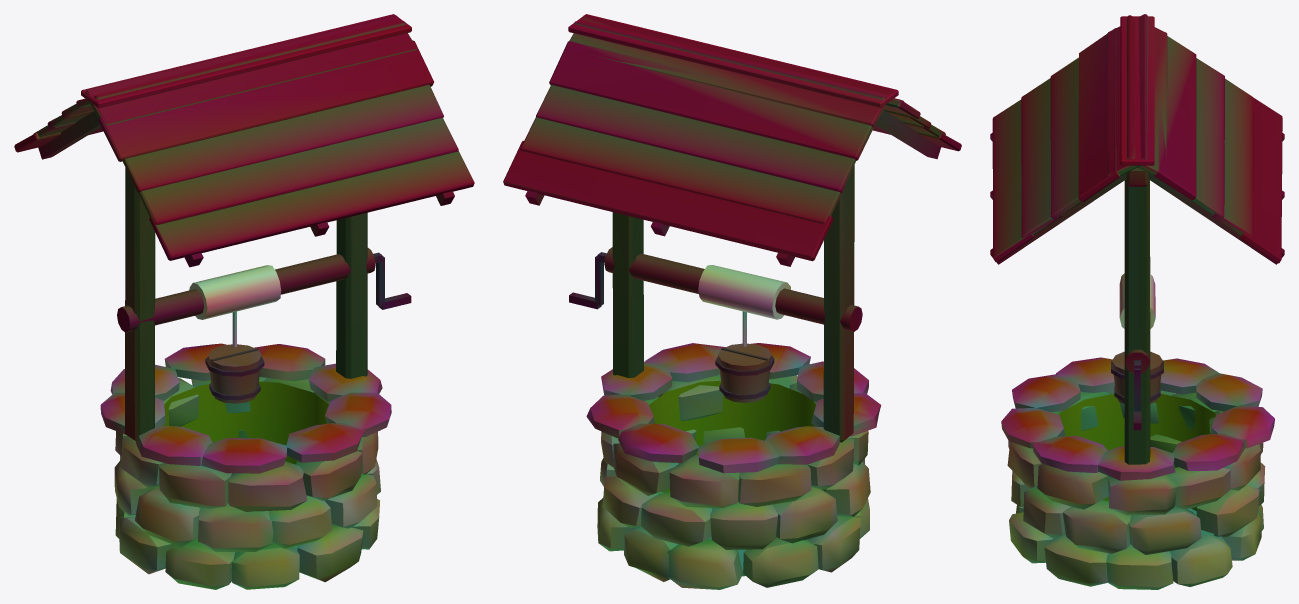
File: well.glb
3 renders of one model, left to right at view 1: azimuth 30°, elevation 25°; view 2: azimuth 150°, elevation 25°; view 3: azimuth 270°, elevation 25°, orthographic. The views are drawn at different scales.
Visible parts, largest first — view 1: well_LOD0; view 2: well_LOD0; view 3: well_LOD0.
Part boxes in pixels (box(x1,y1,x2,y2)): well_LOD0: box(14, 14, 474, 589); well_LOD0: box(503, 14, 961, 589); well_LOD0: box(990, 14, 1284, 589).
Size of what is drawn, in the model's own units: 1.12 by 1.63 by 0.9467.
